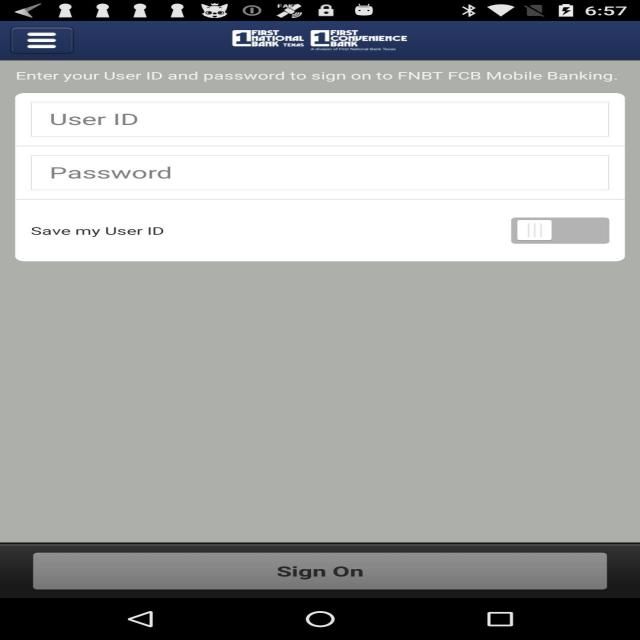button: (12, 546, 617, 598), (498, 213, 630, 256), (6, 23, 100, 62)
icon: (10, 0, 640, 25)
text: (23, 69, 628, 97), (4, 223, 184, 245), (39, 171, 226, 186), (44, 114, 155, 132)
